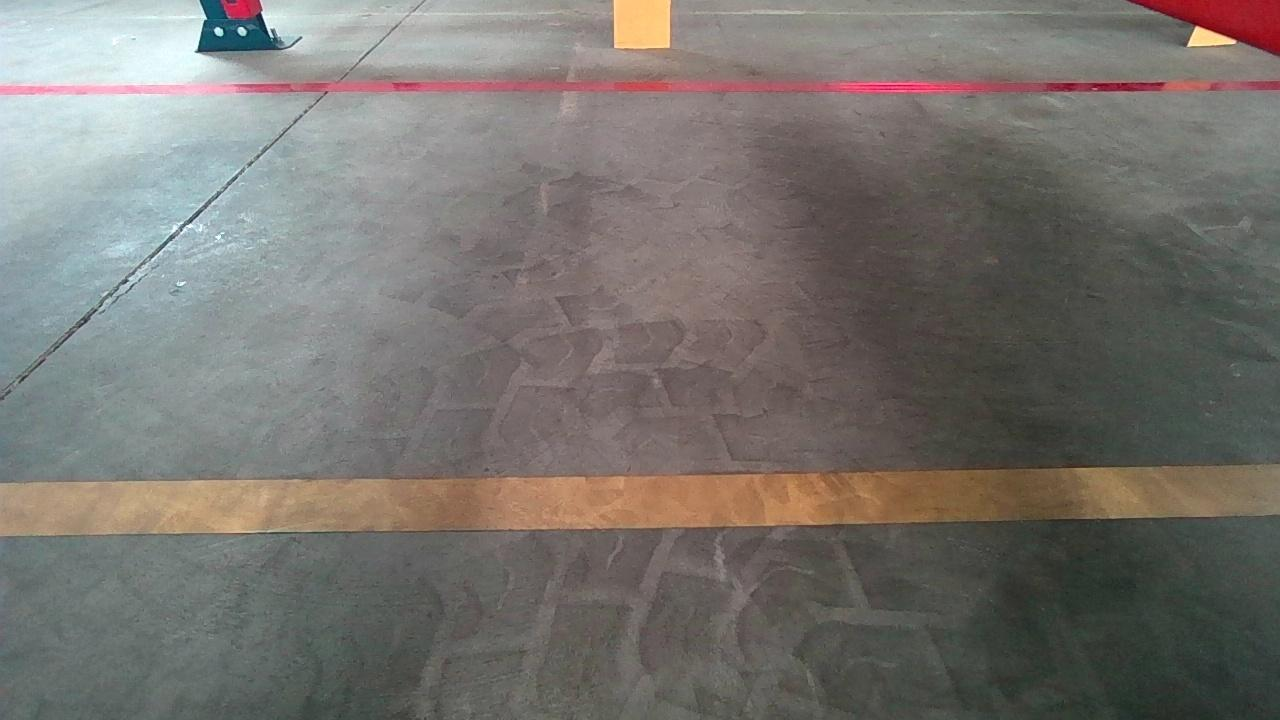h_rack: (1170, 10, 1268, 48)
orange_strip: (612, 0, 673, 48)
red_line: (0, 79, 1280, 93)
